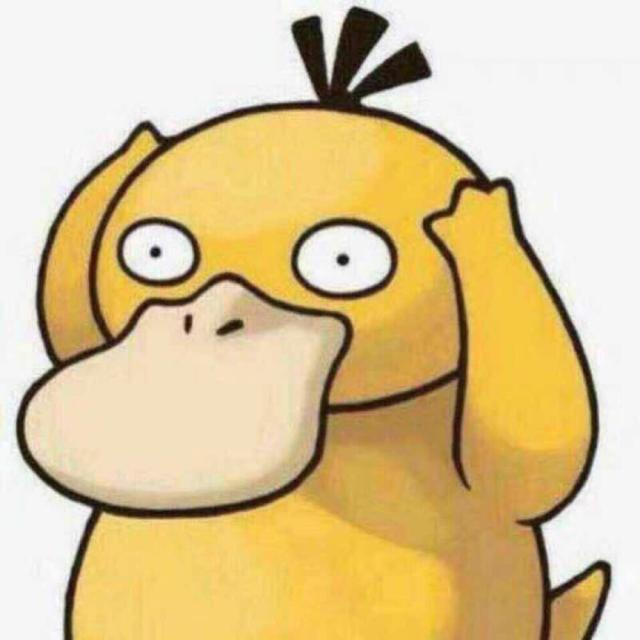Duck: (20, 81, 618, 640)
